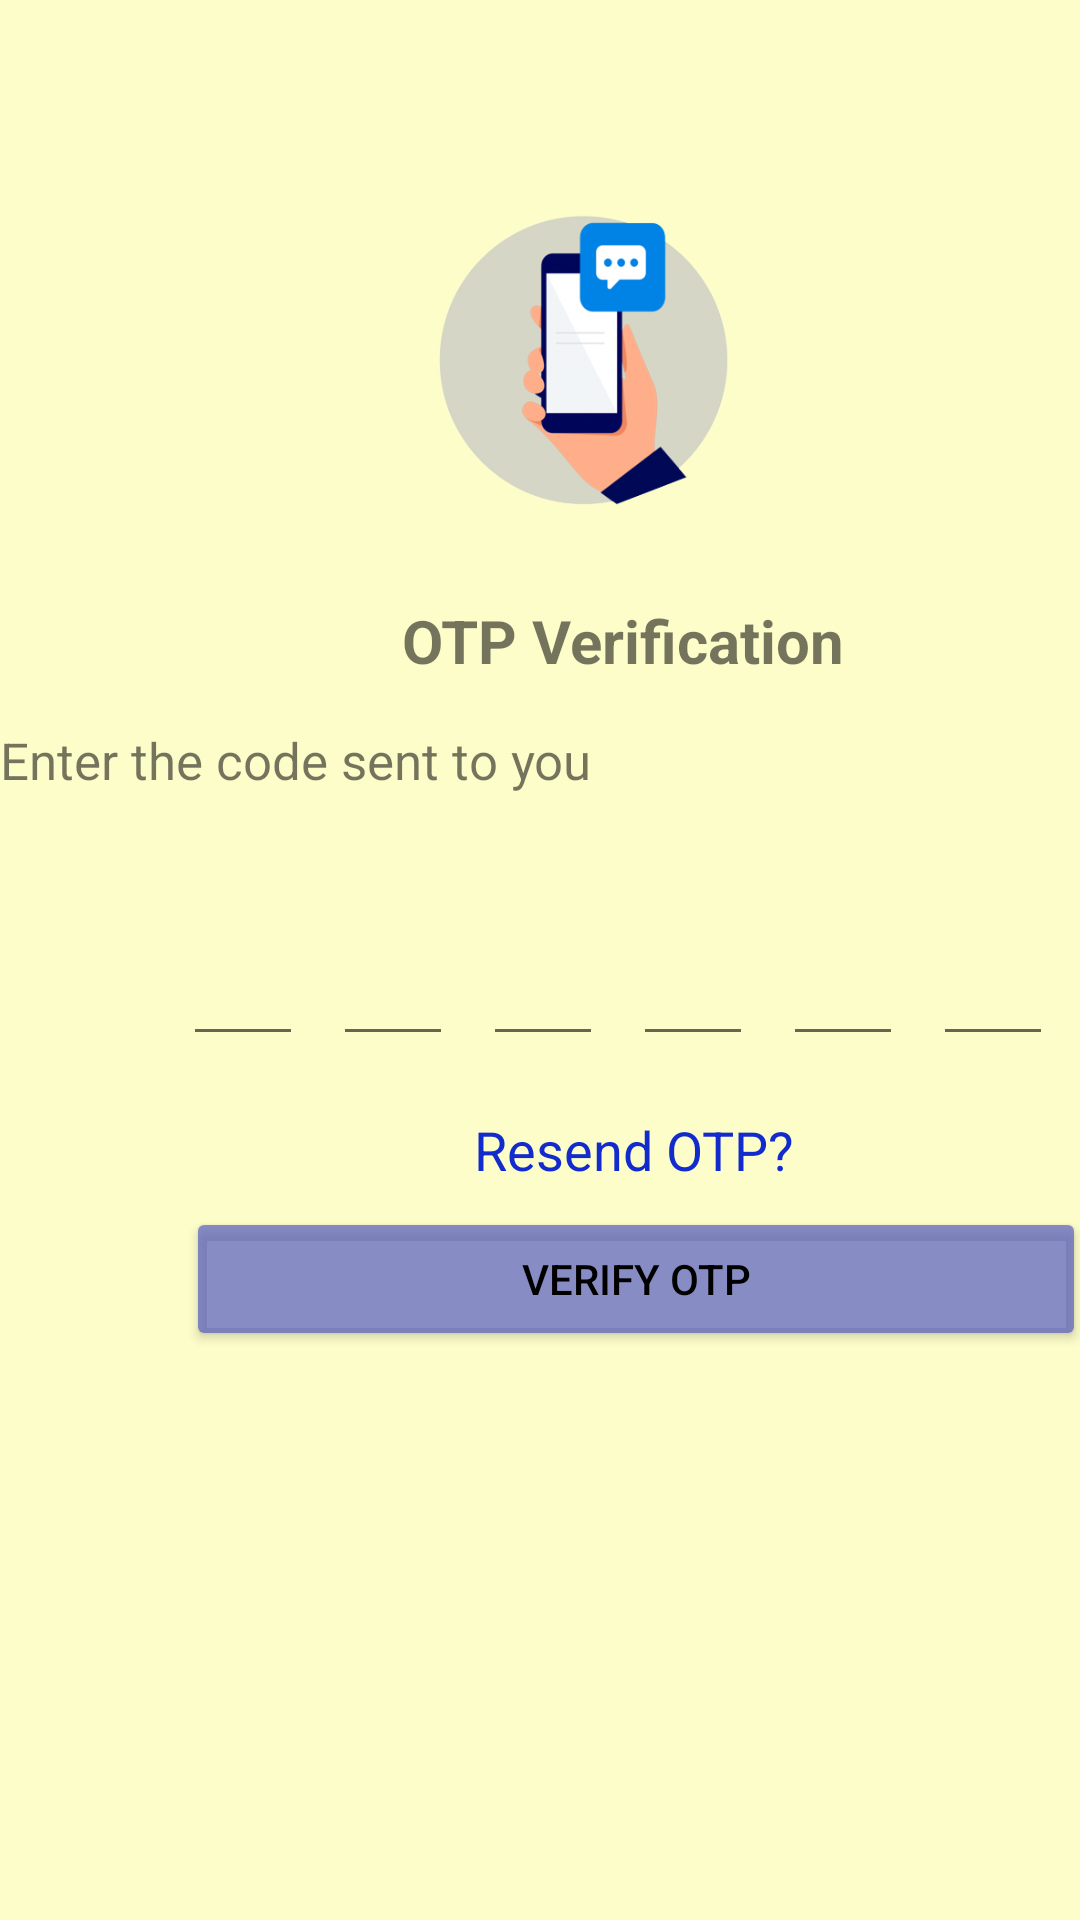

Where to tap for icons on this 1080w x 1920h app screen, as point (x, y):
verifyyy: point (583, 360)
